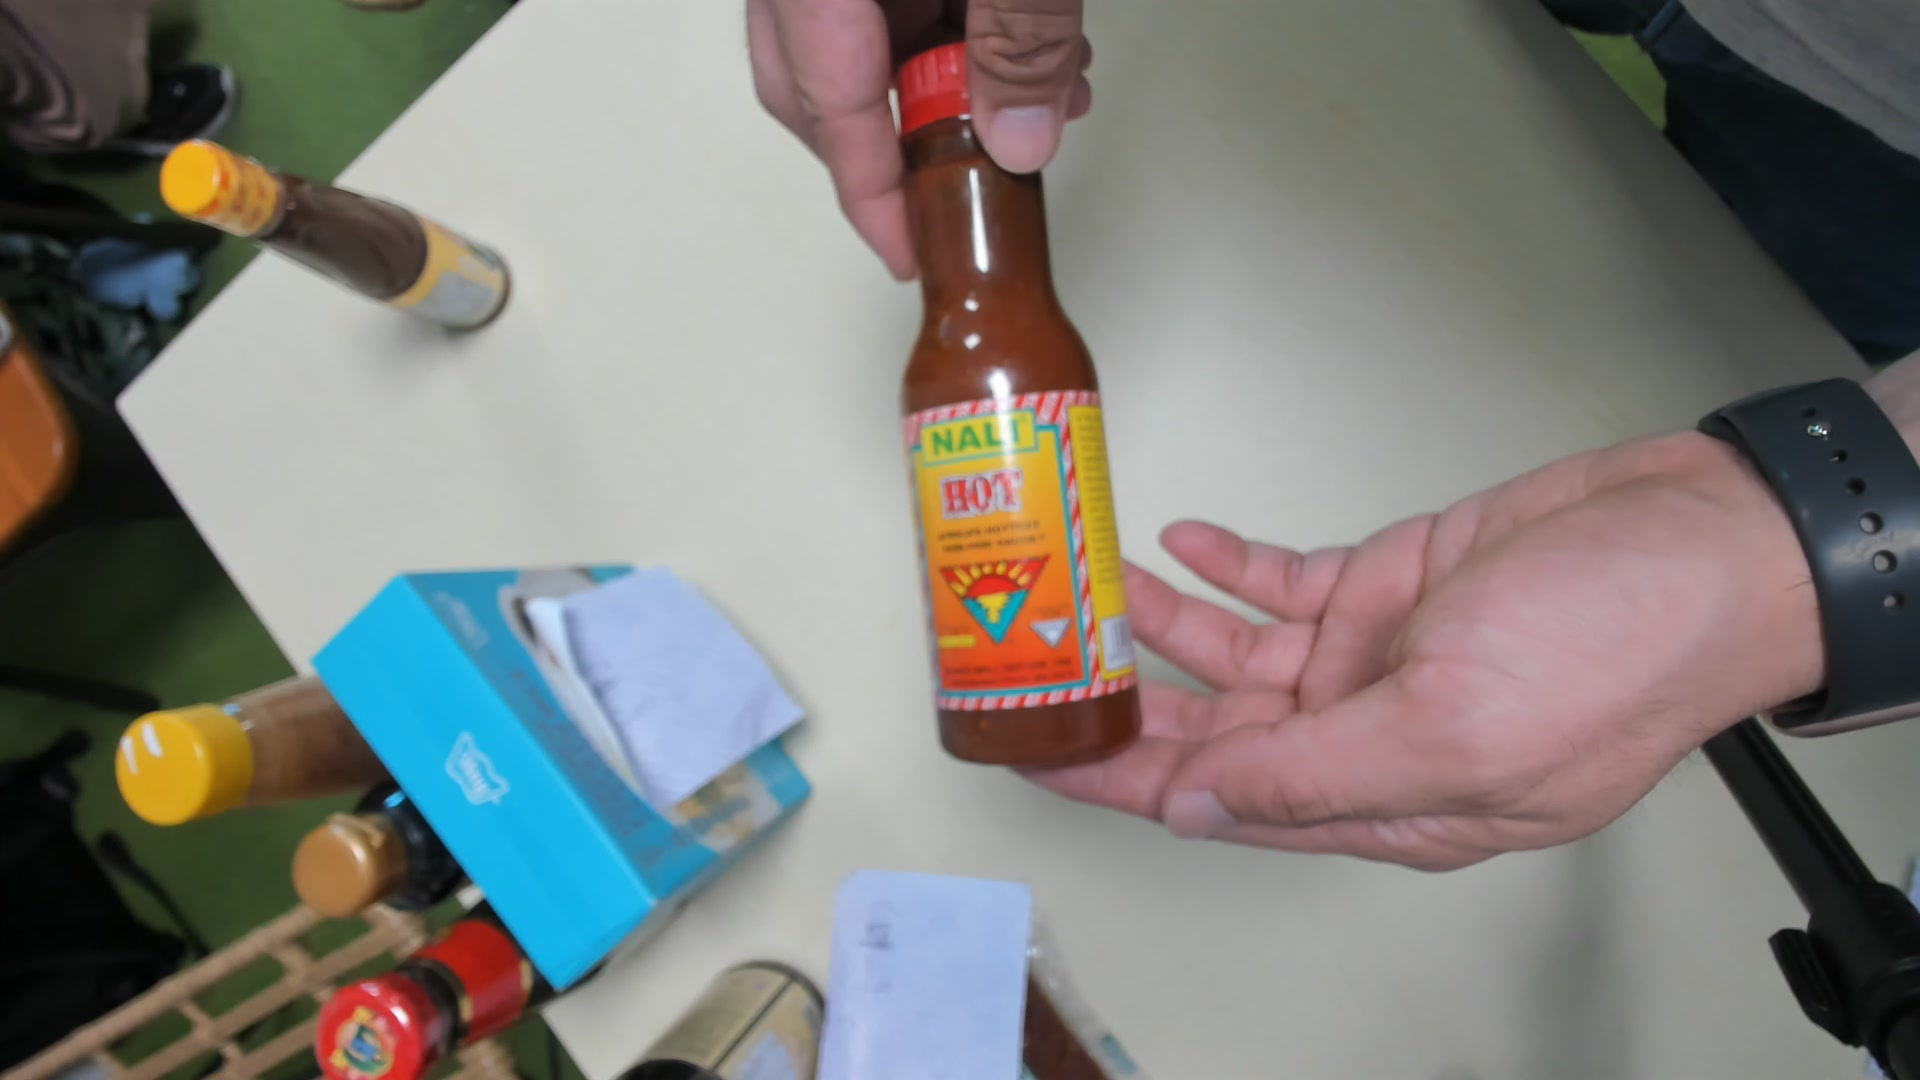KetchupChillSauce_100-199g_Halal_NonHealthy: (897, 44, 1142, 771)
